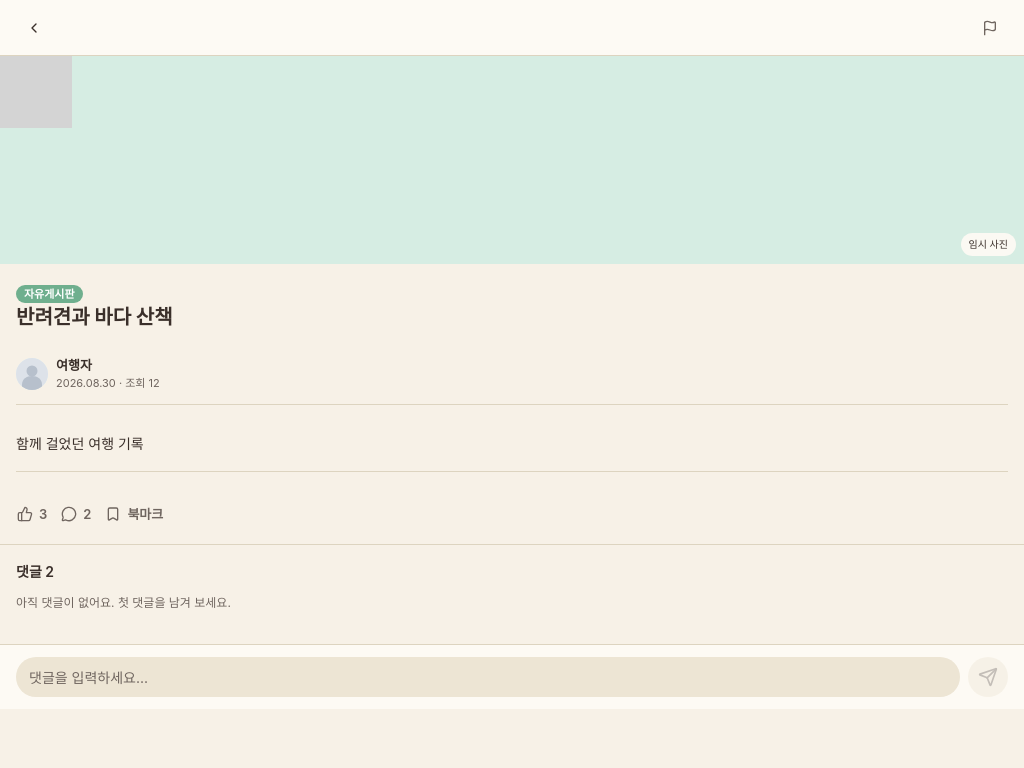
Test: live community board › retains a successful recommendation across list navigation and cancels rather than posting again
Later steps or results of the test are not shown.
Click the button named "게시글 추천" at (32, 514), box [16,496,48,532]
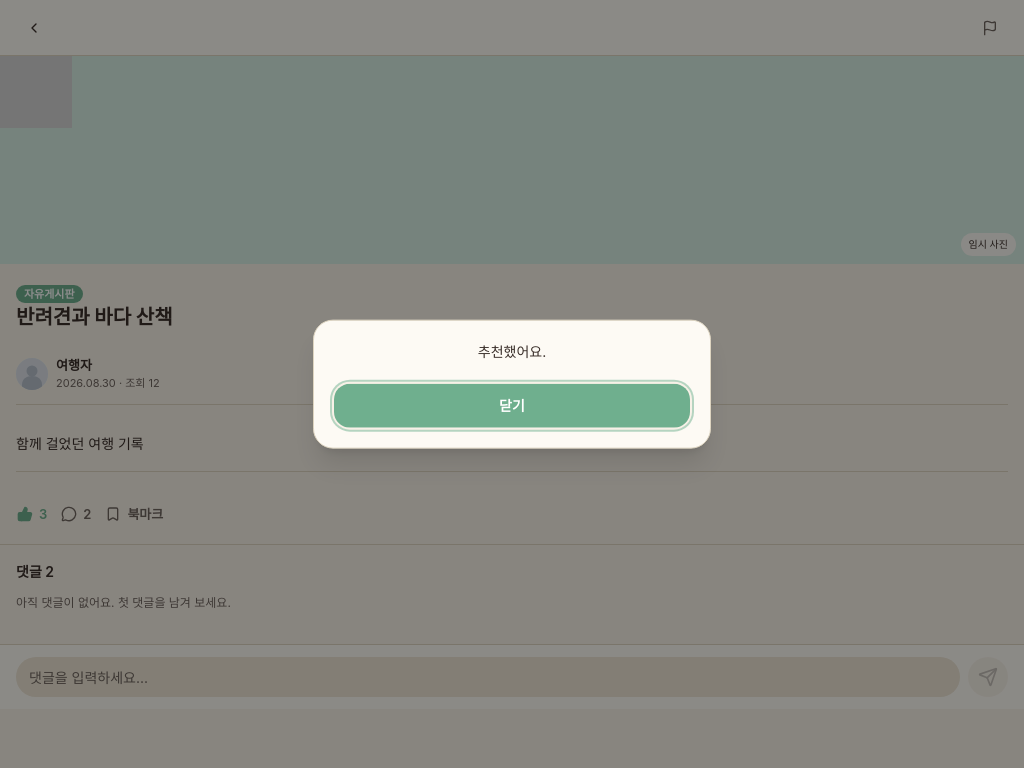
Click the button "닫기" at (512, 405), box [334,383,690,427]
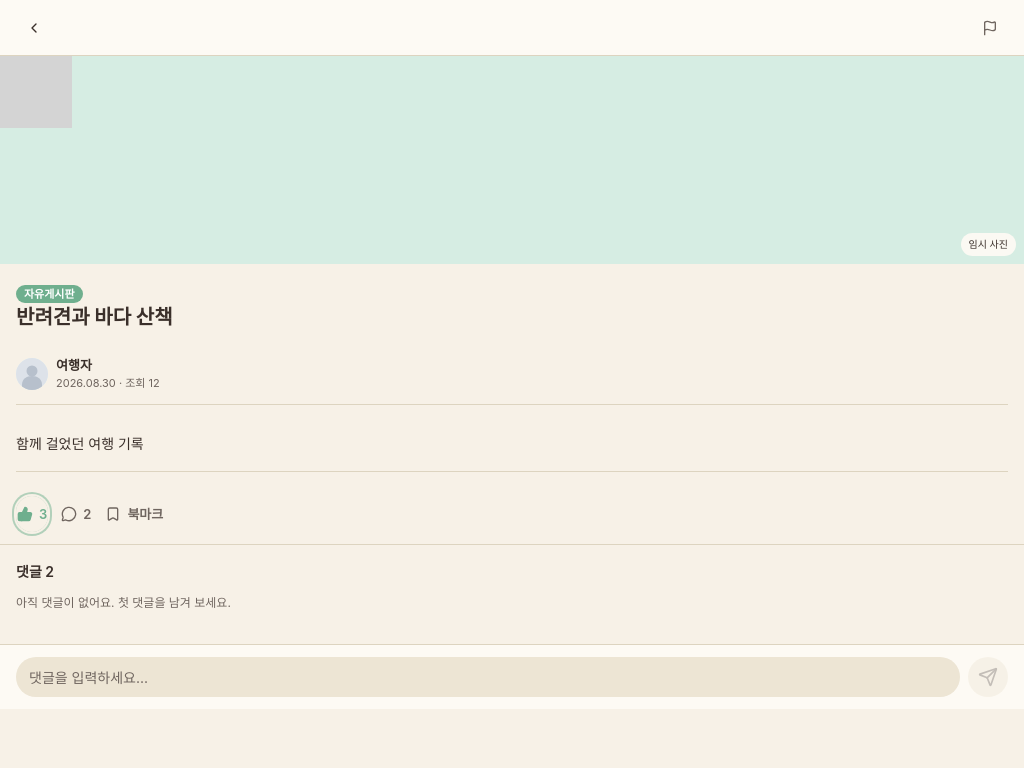
Check: the button named "추천 취소" is pressed, box [16,496,48,532]
